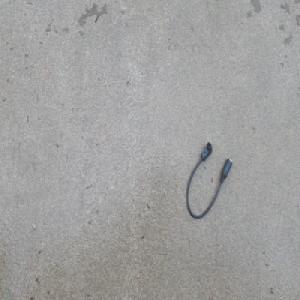Wire: (184, 140, 233, 221)
